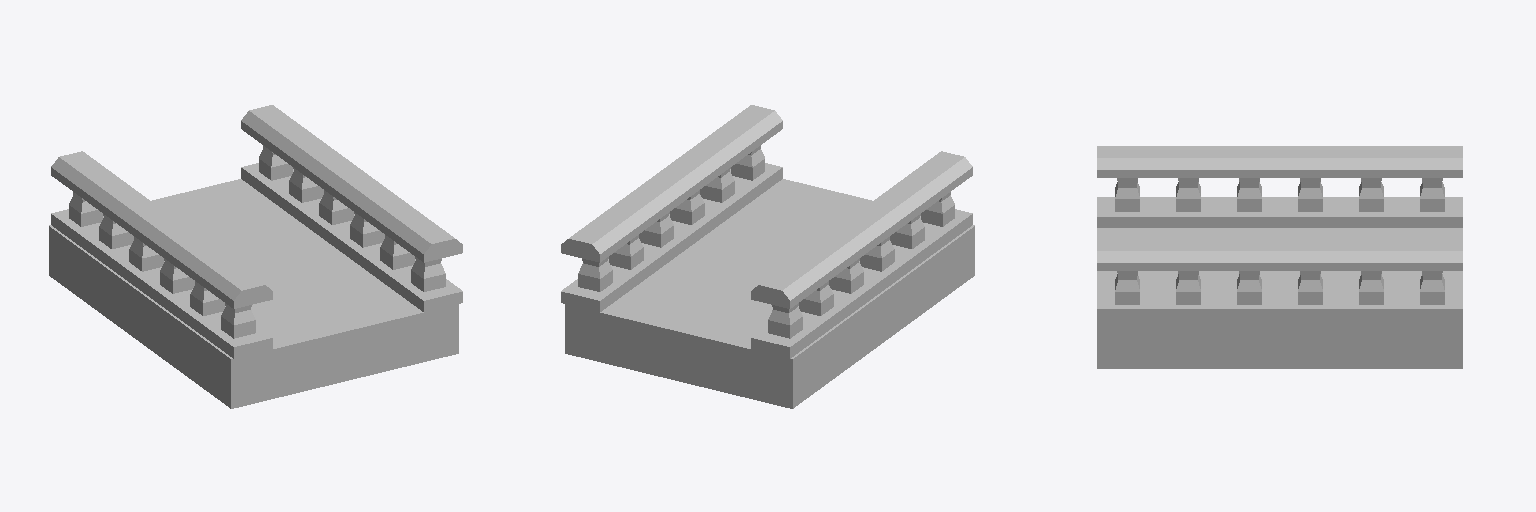
The model's file is drawbridge.obj.
3 views of the same model, side by side, from view 1: azimuth 30°, elevation 25°; view 2: azimuth 150°, elevation 25°; view 3: azimuth 270°, elevation 25° (orthographic).
Parts seen in each view (by area): view 1: mergedBlocks; view 2: mergedBlocks; view 3: mergedBlocks.
Boxes of the visible parts, x1,y1,x2,y2 form: mergedBlocks: [49, 105, 462, 408]; mergedBlocks: [561, 105, 974, 408]; mergedBlocks: [1097, 146, 1462, 368].
Bounding box in the file's own units: 1.47 × 0.7 × 2.